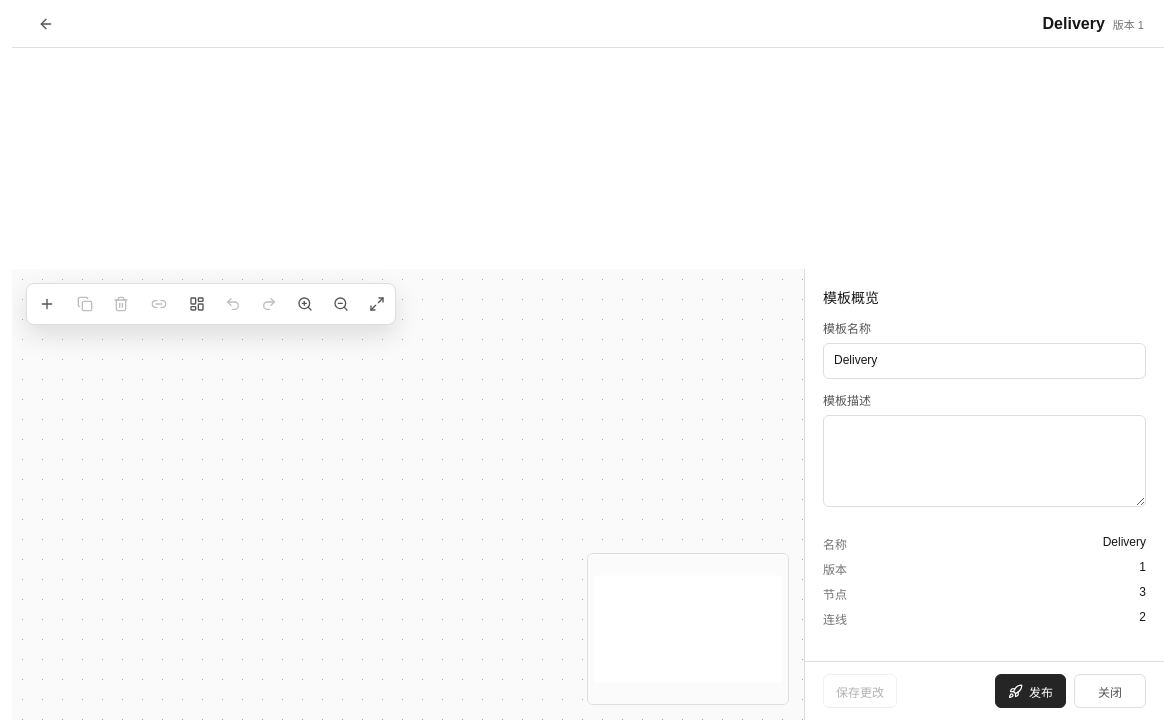
Scenario: WorkflowTemplateCanvasPage › edits template metadata from the empty inspector
The width and height of the screenshot is (1164, 720).
Replace the text in the field labelled "模板名称" with "Release workflow". click: (984, 361)
box: x1=823 y1=343 x2=1146 y2=379
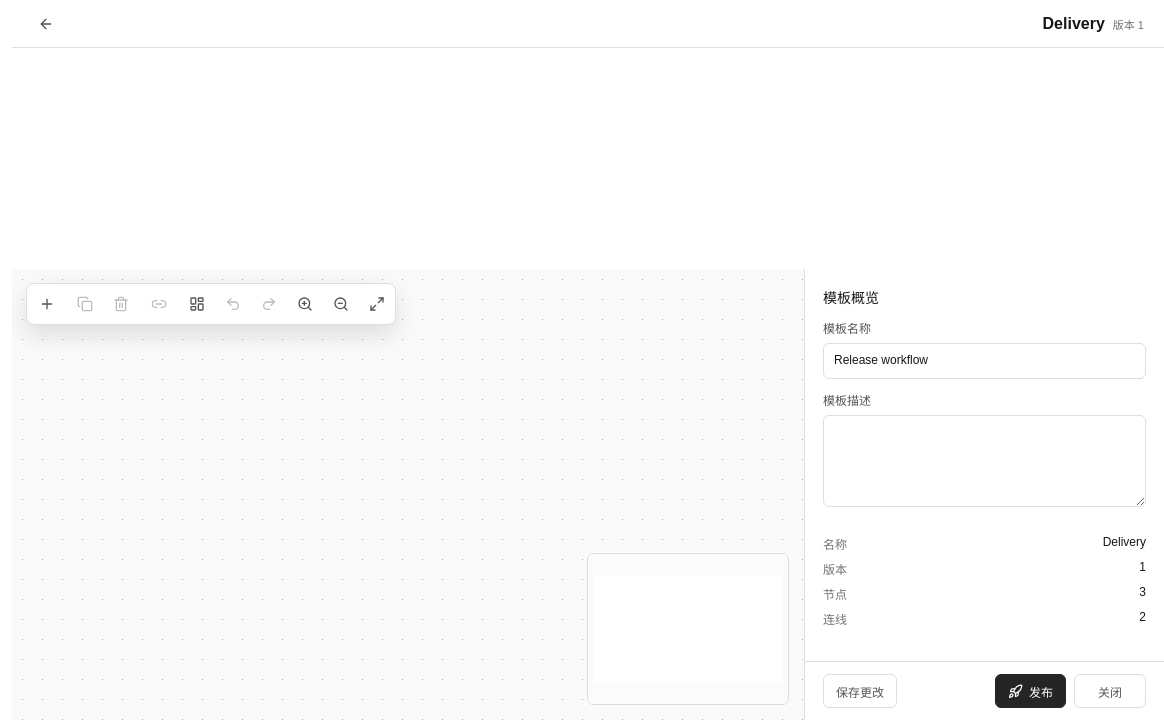
Type "Coordinates the release" into the text box labelled "模板描述". click: (984, 461)
box: x1=823 y1=415 x2=1146 y2=507
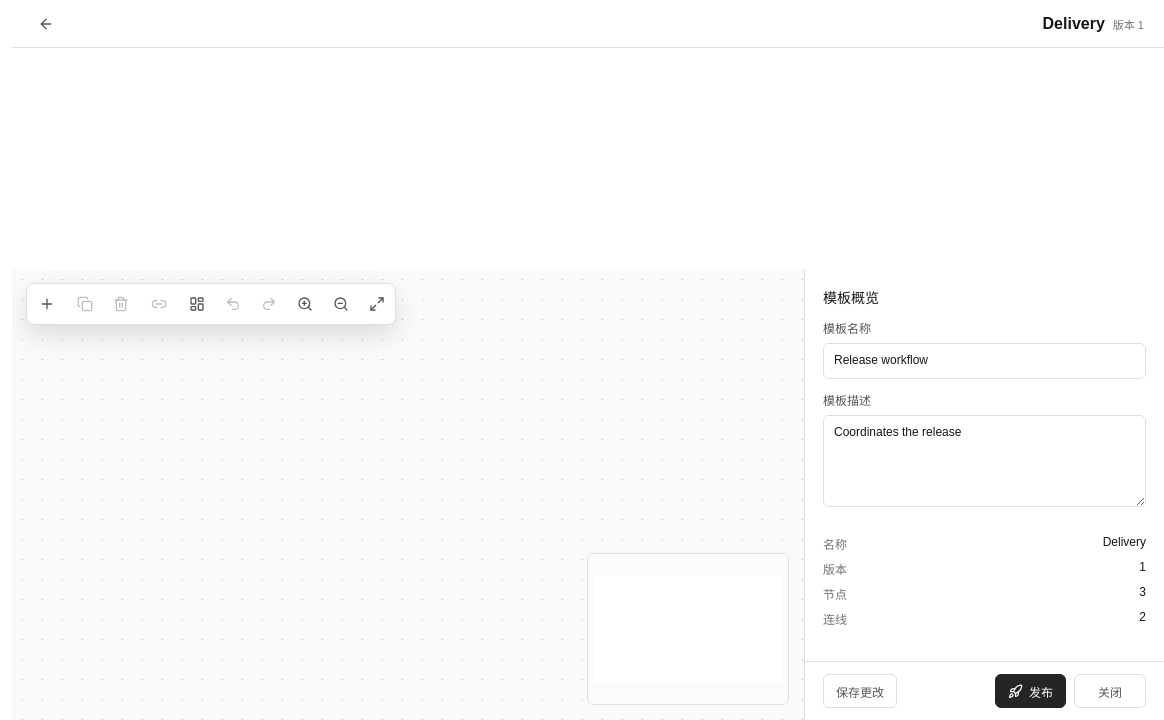
Click the button "保存更改". click: (860, 691)
box: x1=823 y1=674 x2=897 y2=708
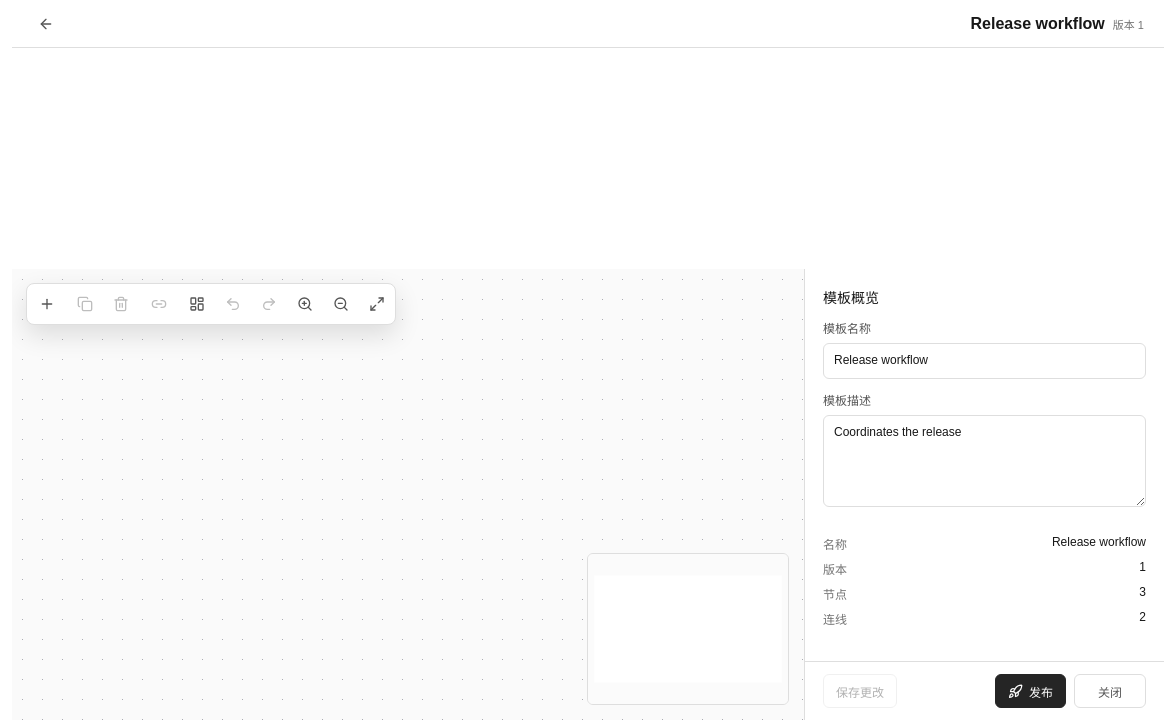
Check: the heading "Release workflow" is shown, box x1=970 y1=14 x2=1105 y2=32
